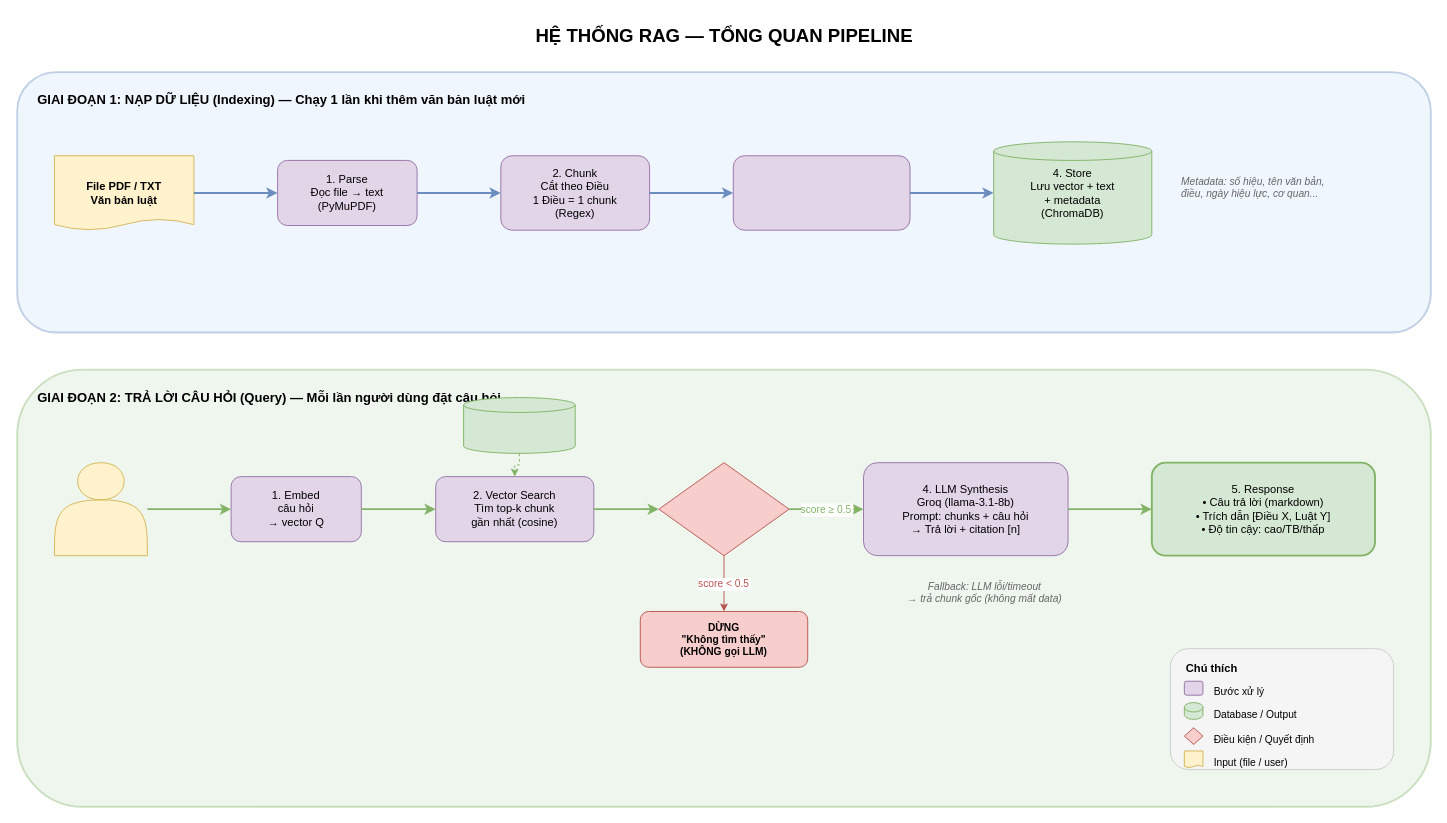
The diagram is 1447 pixels wide and 823 high, and some of its shapes have lost their labels. Each missing label, with the centre of its shape:
"3. Embed Text → Vector 1024d (multilingual-e5-large)" goes at (821,192).
"3. Threshold Gating" goes at (723,509).
"ChromaDB (dữ liệu đã index)" goes at (519,425).
"Câu hỏi người dùng" goes at (100,509).
